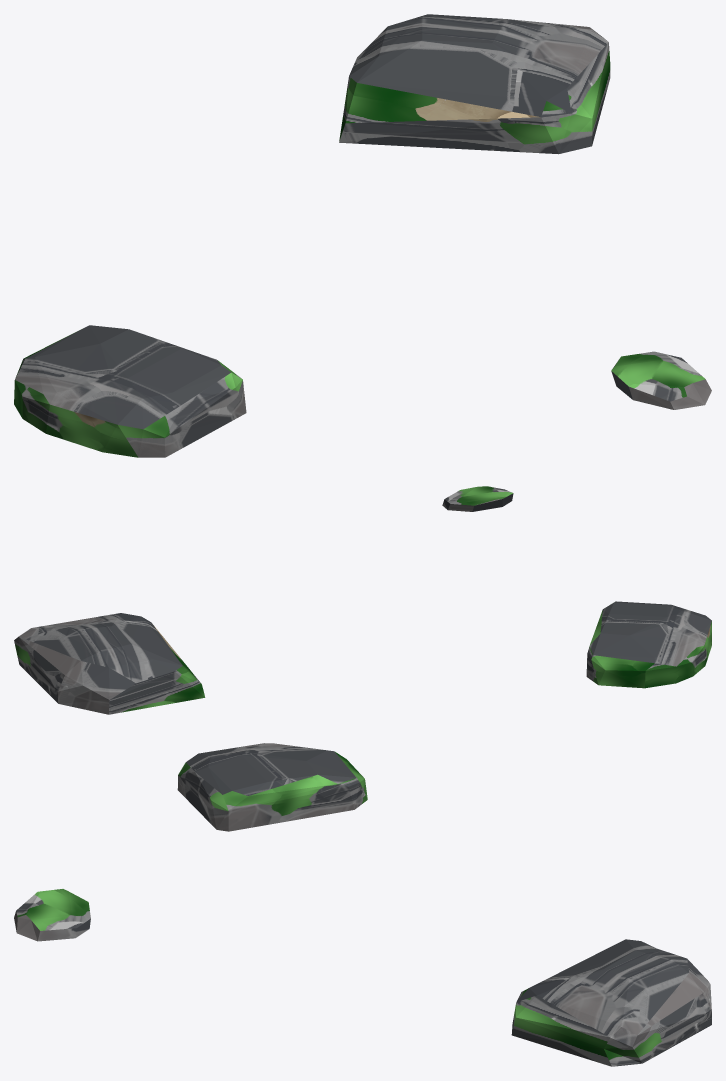
The model's file is Rocks02.fbx.
3 renders of one model, top to bottom at view 1: azimuth 30°, elevation 25°; view 2: azimuth 150°, elevation 25°; view 3: azimuth 270°, elevation 25°, orthographic. The views are drawn at different scales.
Visible parts, largest first — view 1: GroundClutter_LP.019; view 2: GroundClutter_LP.019; view 3: GroundClutter_LP.019.
Boxes of the visible parts, box(x1,y1,x2,y2) form: GroundClutter_LP.019: box(14, 14, 711, 457); GroundClutter_LP.019: box(14, 486, 711, 714); GroundClutter_LP.019: box(14, 743, 711, 1066).
Bounding box in the file's own units: 125 × 10.21 × 123.
